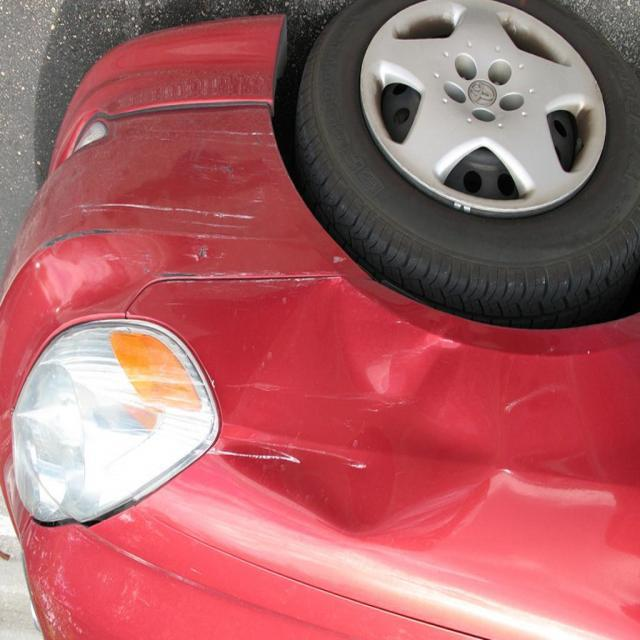dent: (200, 247, 514, 557)
